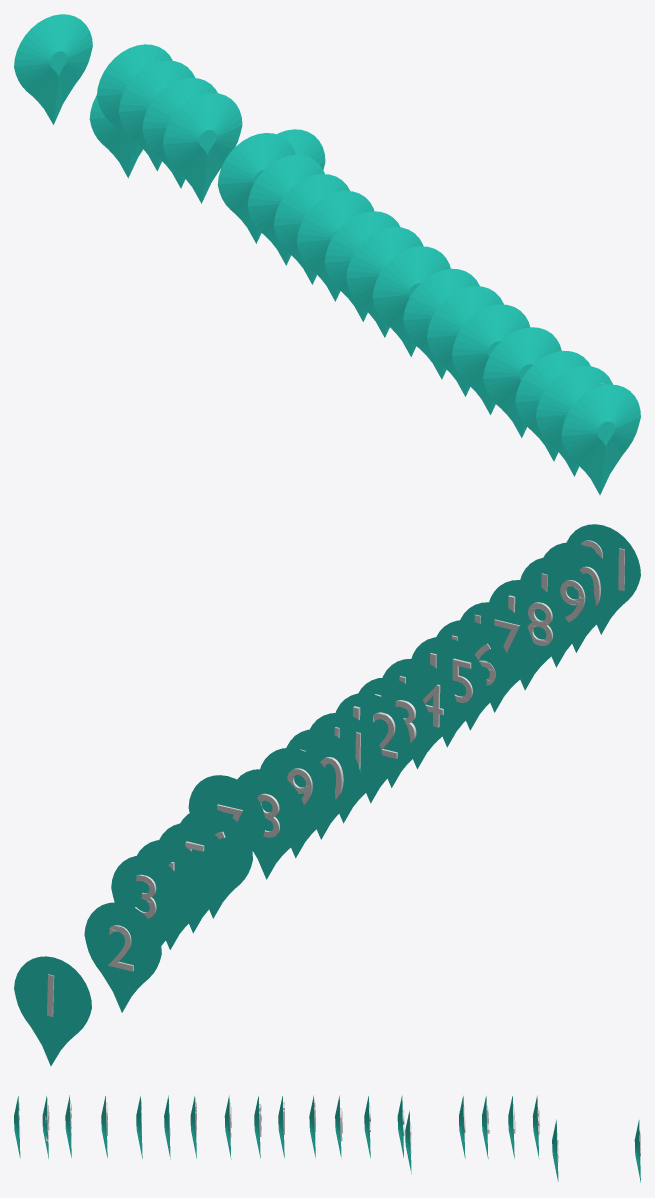
The model's file is Pins.fbx.
The picture shows the model from 3 angles, top to bottom: view 1: azimuth 30°, elevation 25°; view 2: azimuth 150°, elevation 25°; view 3: azimuth 270°, elevation 25°; orthographic projection. The views are drawn at different scales.
Parts seen in each view (by area): view 1: Pip1.021, Text, Text.005, Pip1.001, Pip1.002, Pip1.005, Text.007, Pip1.008, Pip1, Text.008, Pip1.006, Pip1.003 (+9 smaller); view 2: Text, Text.001, Text.002, Text.007, Text.018, Pip1.001, Pip1.004, Text.008, Pip1.005, Text.009, Pip1.021, Text.006 (+9 smaller); view 3: Pip1, Text.009, Pip1.006, Text.003, Text.004, Pip1.001, Pip1.005, Text.007, Pip1.008, Text.018, Text.008, Pip1.004 (+9 smaller).
Boxes of the visible parts, x1,y1,x2,y2 form: Pip1.021: [561, 384, 640, 495]; Text: [14, 14, 92, 124]; Text.005: [163, 93, 242, 203]; Pip1.001: [483, 327, 561, 437]; Pip1.002: [452, 304, 529, 414]; Pip1.005: [372, 246, 450, 356]; Text.007: [217, 133, 295, 243]; Pip1.008: [297, 190, 374, 301]; Pip1: [346, 227, 423, 337]; Text.008: [247, 155, 324, 265]; Pip1.006: [536, 365, 612, 476]; Pip1.003: [427, 286, 503, 396]; Text: [14, 956, 91, 1066]; Text.001: [84, 902, 161, 1012]; Text.002: [111, 855, 188, 945]; Text.007: [237, 769, 306, 879]; Text.018: [520, 557, 595, 667]; Pip1.001: [489, 580, 564, 690]; Pip1.004: [411, 637, 486, 747]; Text.008: [260, 748, 335, 858]; Pip1.005: [382, 658, 456, 769]; Text.009: [286, 729, 360, 839]; Pip1.021: [566, 524, 640, 634]; Text.006: [188, 775, 265, 851]; Pip1: [254, 1096, 261, 1158]; Text.009: [335, 1095, 342, 1157]; Pip1.006: [42, 1096, 49, 1158]; Text.003: [508, 1096, 515, 1158]; Text.004: [482, 1096, 489, 1158]; Pip1.001: [101, 1096, 107, 1158]; Pip1.005: [224, 1095, 231, 1159]; Text.007: [397, 1095, 404, 1157]; Pip1.008: [309, 1095, 315, 1157]; Text.018: [65, 1095, 71, 1157]; Text.008: [364, 1096, 370, 1158]; Pip1.004: [190, 1096, 196, 1158].
Size of the model in its own units: 194 by 244 by 1653.
